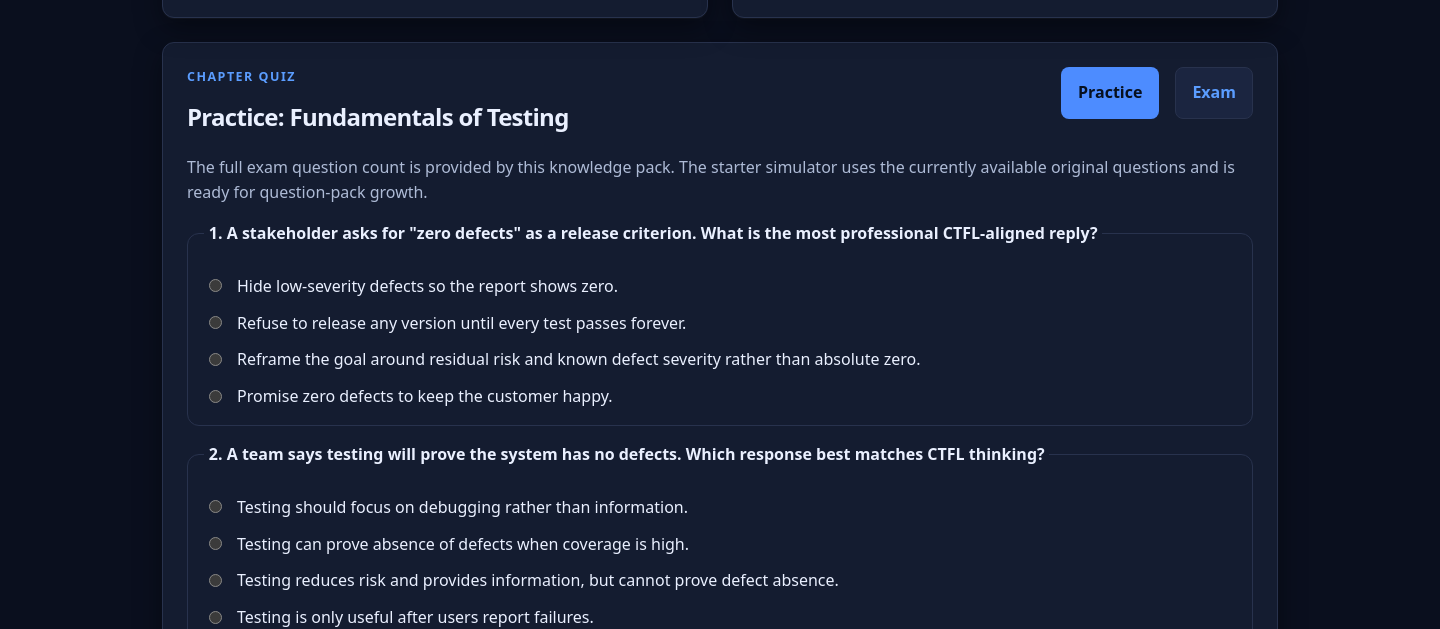
Test: App › quiz interaction › shows a non-blocking unanswered-question indicator that updates as answers are given
(page scrolled)
Step 1. Click the radio button labelled "Hide low-severity defects so the report shows zero." → (216, 286), box [209,279,222,292]
(page scrolled)
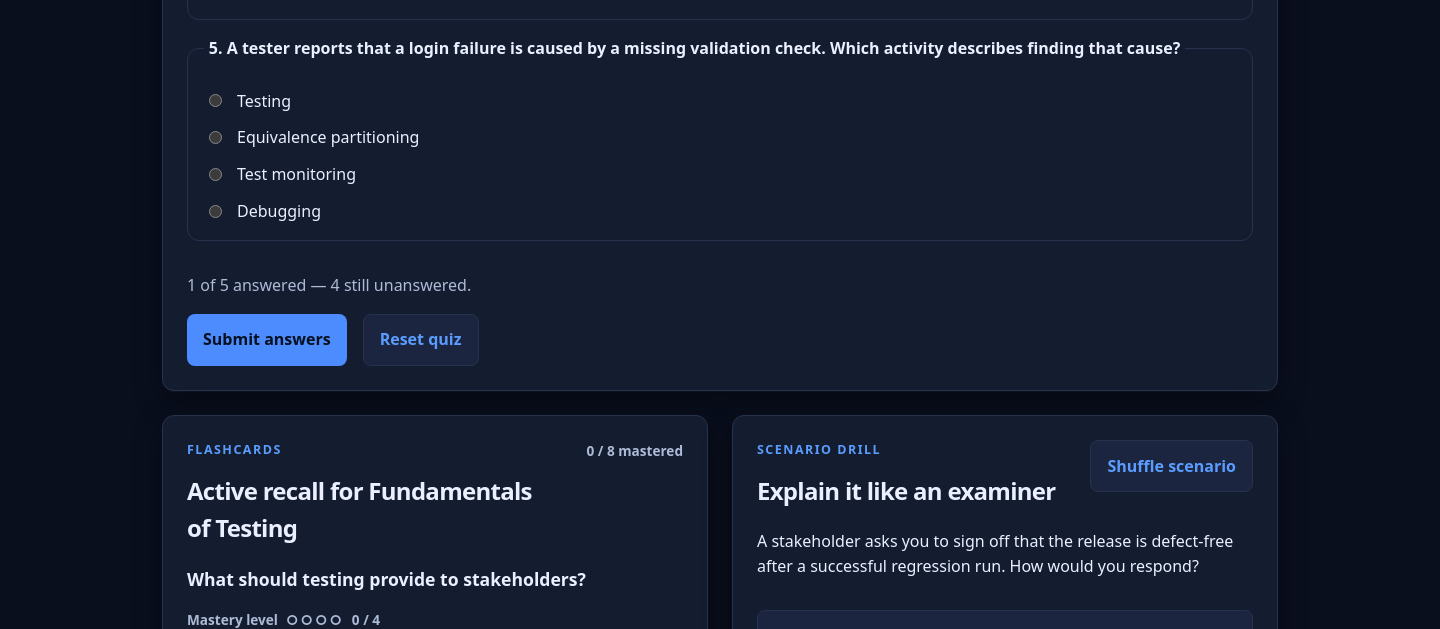
Now the text with test id "quiz-progress-hint" shows "1 of", box [187,274,471,296]
